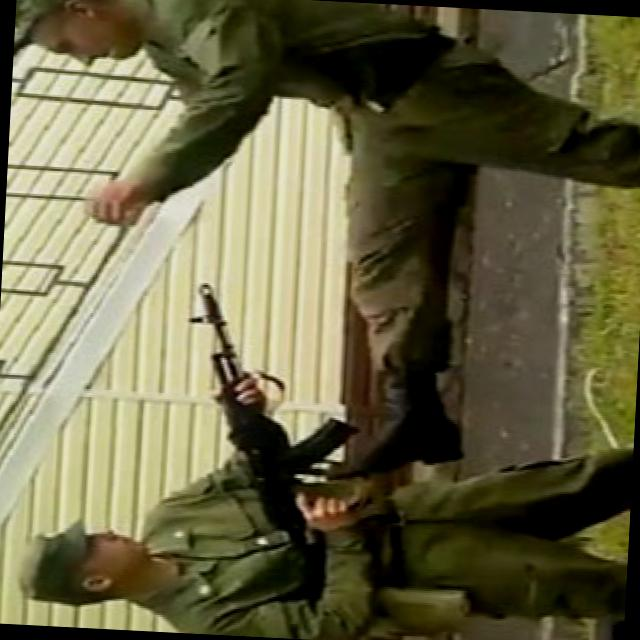long weapon: (170, 277, 356, 593)
